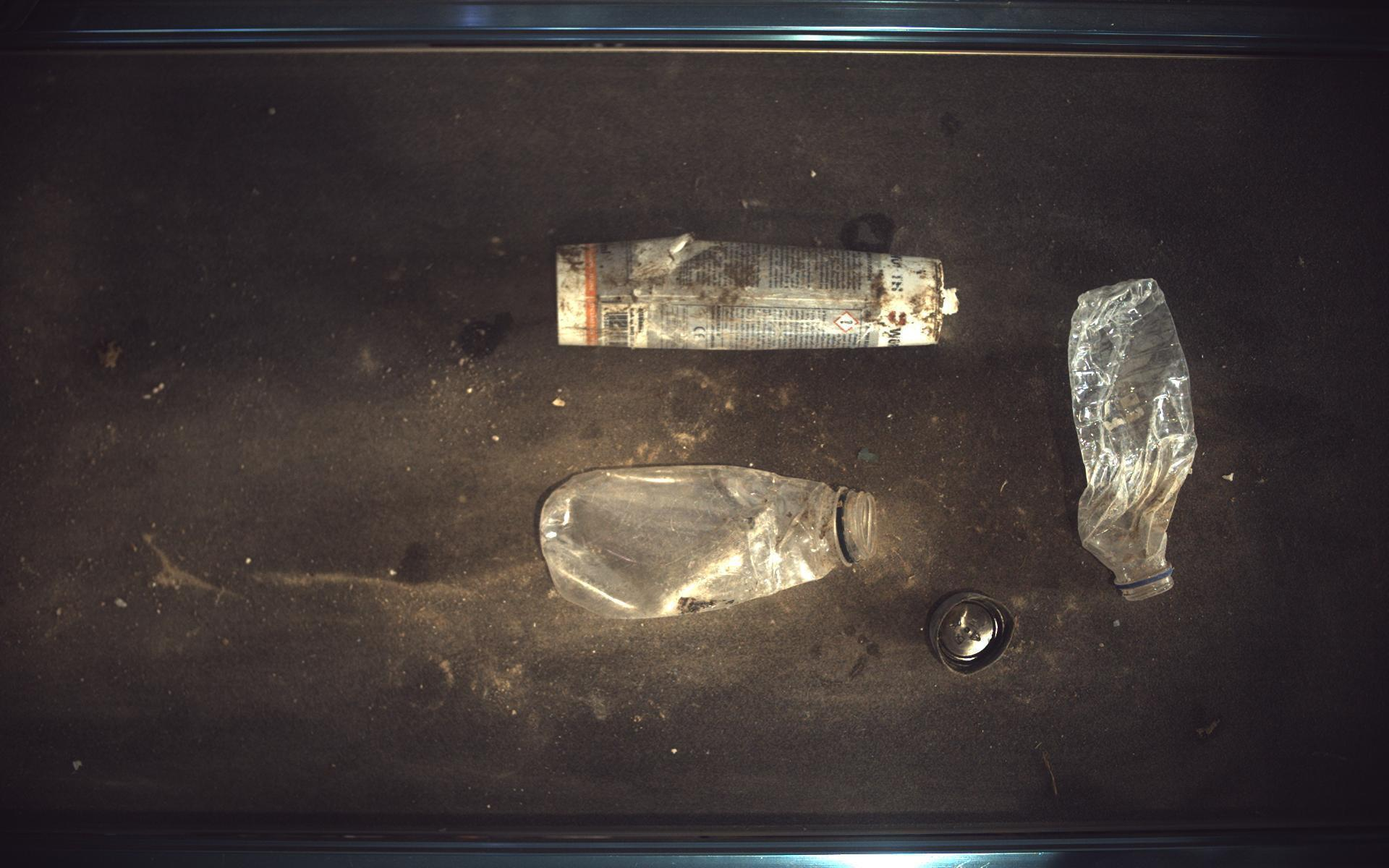general_w: (540, 466, 878, 620), (1071, 278, 1200, 602), (927, 591, 1016, 675)
plastic: (558, 232, 959, 349)
